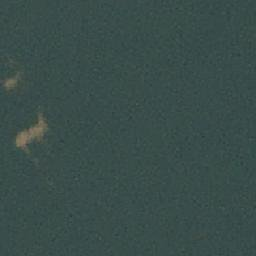debris: (16, 116, 47, 154), (6, 72, 16, 89)
